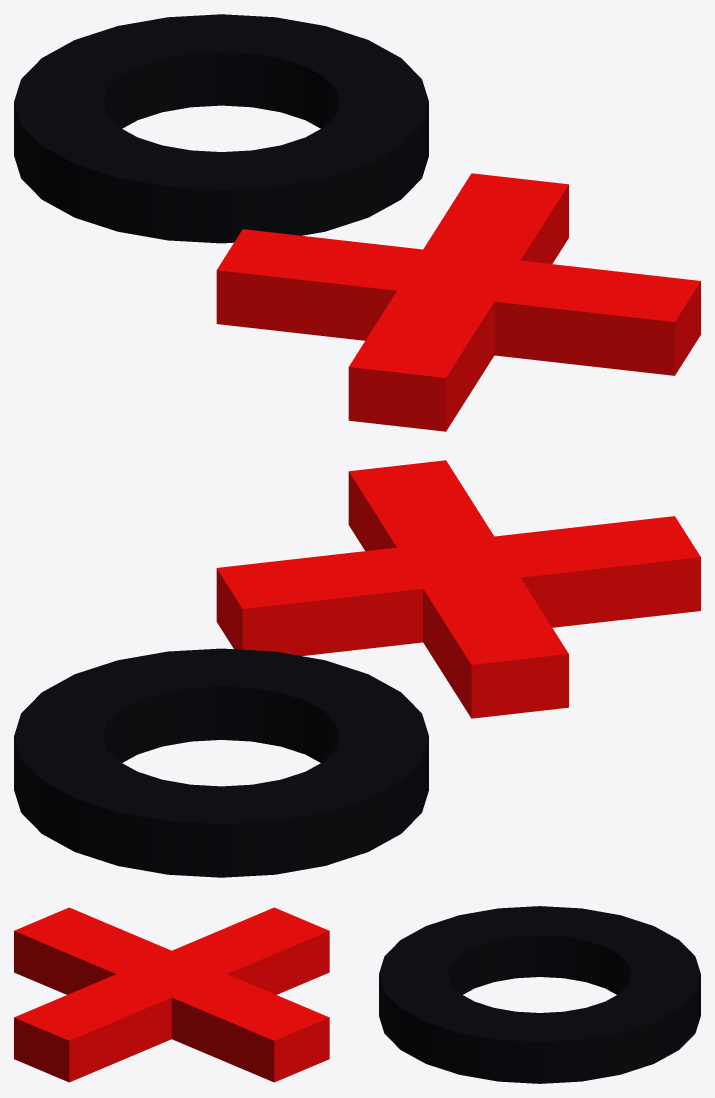
Rendered from peices.obj.
3 views of the same model, one above another, from view 1: azimuth 30°, elevation 25°; view 2: azimuth 150°, elevation 25°; view 3: azimuth 270°, elevation 25° (orthographic). The views are drawn at different scales.
Visible parts, largest first — view 1: Union2, Union1; view 2: Union2, Union1; view 3: Union2, Union1.
Boxes of the visible parts, left/top/right/bottom form: Union2: left=14, top=14, right=428, bottom=243; Union1: left=216, top=173, right=700, bottom=431; Union2: left=14, top=648, right=428, bottom=877; Union1: left=216, top=460, right=700, bottom=718; Union2: left=379, top=906, right=700, bottom=1083; Union1: left=14, top=907, right=329, bottom=1082.
Size of the model in its own units: 7 by 1 by 14.93.
